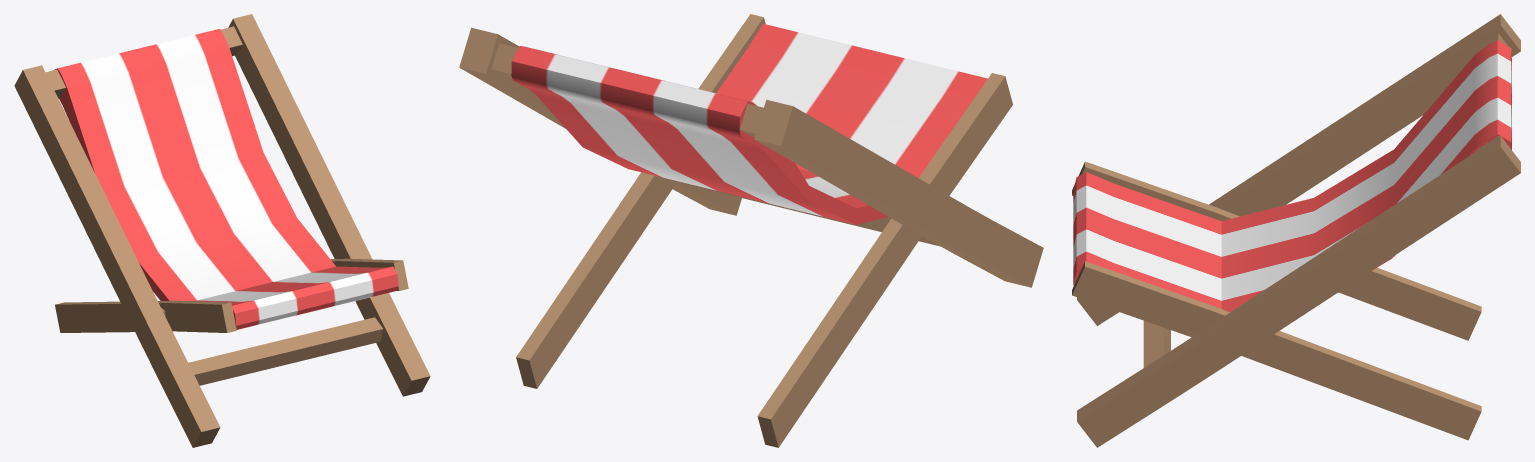
Rendered from OP-Beach Chair.fbx.
3 renders of one model, left to right at view 1: azimuth 30°, elevation 25°; view 2: azimuth 150°, elevation 25°; view 3: azimuth 270°, elevation 25°, orthographic. The views are drawn at different scales.
Parts seen in each view (by area): view 1: Cube.001; view 2: Cube.001; view 3: Cube.001.
Part boxes in pixels (box(x1,y1,x2,y2)): Cube.001: box(14, 14, 430, 447); Cube.001: box(459, 14, 1043, 447); Cube.001: box(1072, 14, 1520, 447).
Bounding box in the file's own units: 240 × 343 × 259.
